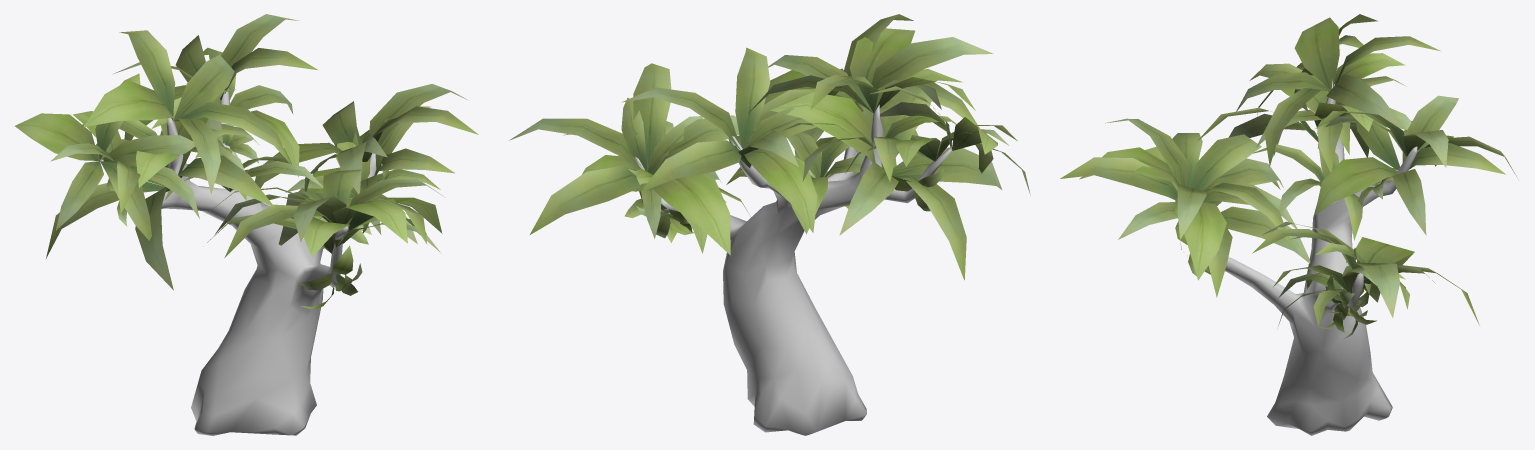
File: SwampTree.fbx
3 views of the same model, side by side, from view 1: azimuth 30°, elevation 25°; view 2: azimuth 150°, elevation 25°; view 3: azimuth 270°, elevation 25° (orthographic). The views are drawn at different scales.
Parts seen in each view (by area): view 1: tree.113; view 2: tree.113; view 3: tree.113.
Boxes of the visible parts, x1,y1,x2,y2 form: tree.113: (15, 14, 478, 435); tree.113: (509, 14, 1030, 435); tree.113: (1060, 14, 1517, 435).
Size of the model in its own units: 2474 by 1903 by 2283.
